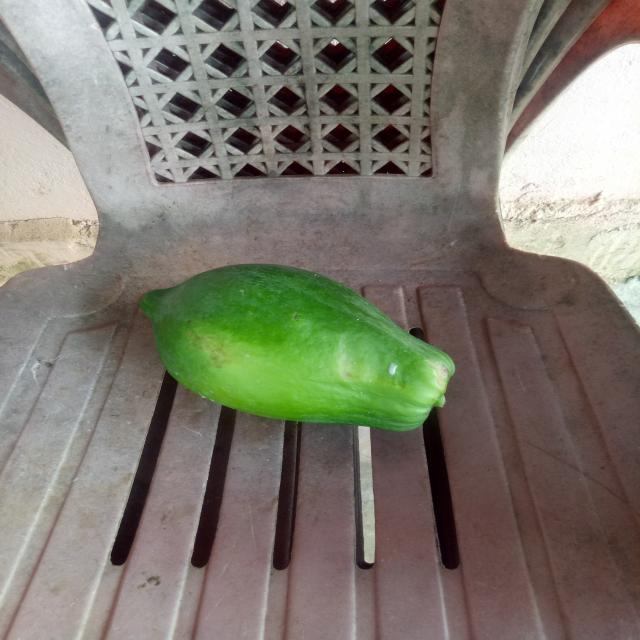Pepaya unrippen: (123, 256, 468, 436)
